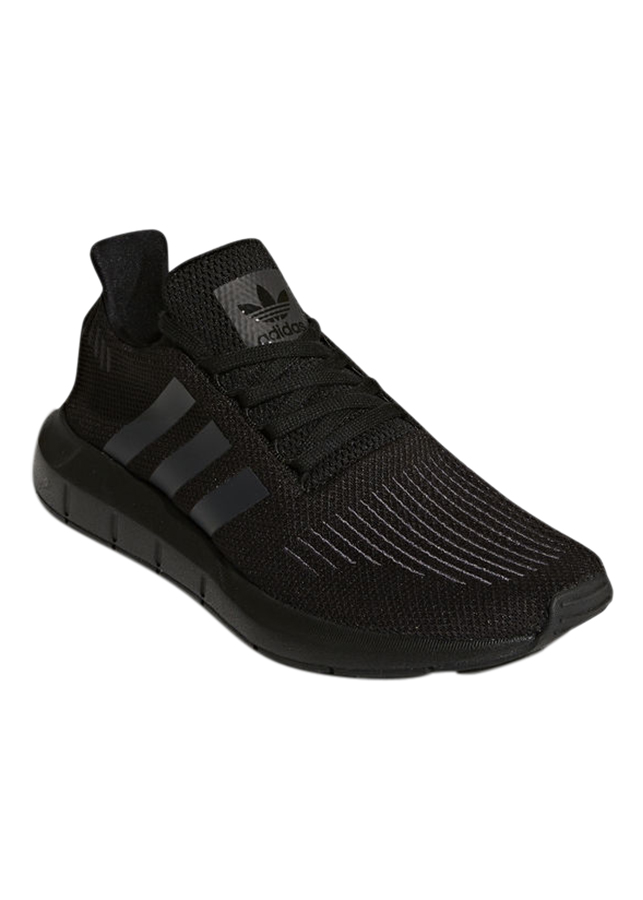Adidas: (205, 262, 327, 351)
